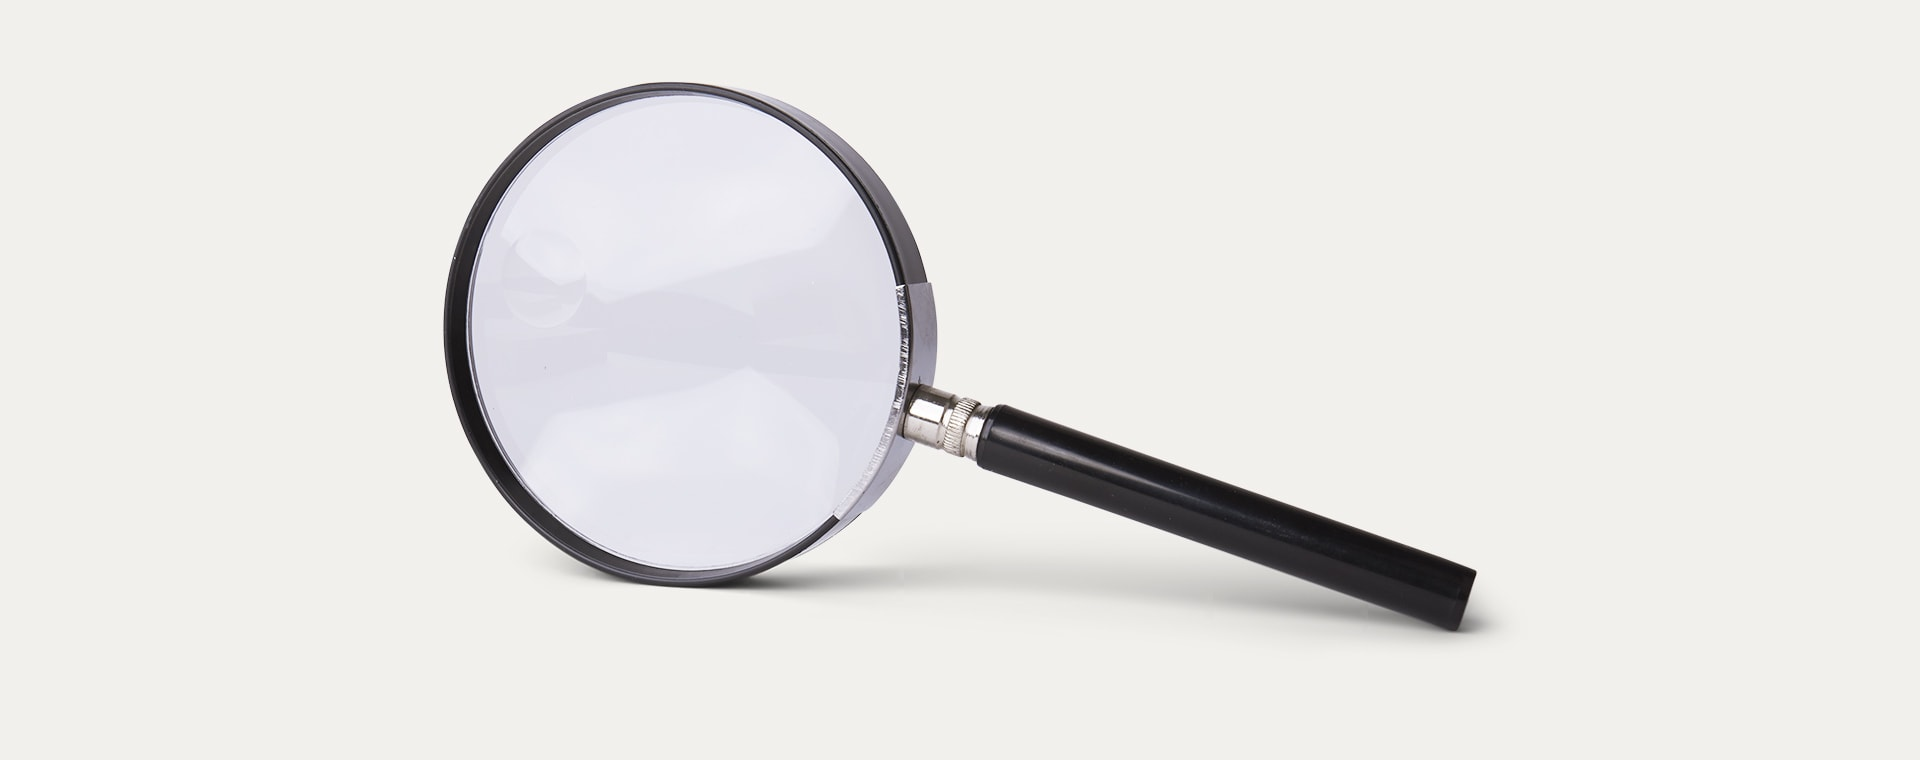magnifying-glass: (405, 64, 1073, 613)
